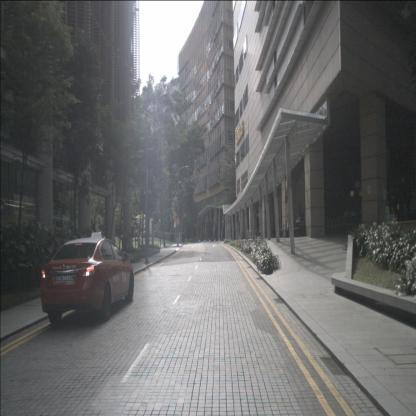human-pedestrian-adult: (295, 212, 304, 234)
vehicle-car: (40, 235, 134, 323)
